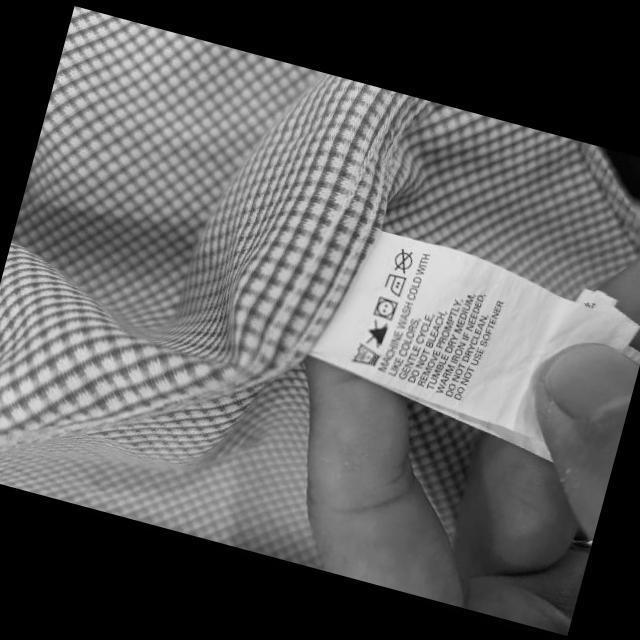30C: (347, 340, 382, 371)
DN_bleach: (358, 314, 391, 351)
DN_dry_clean: (389, 246, 416, 276)
iron_medium: (381, 271, 406, 299)
tumble_dry_medium: (368, 293, 399, 323)
